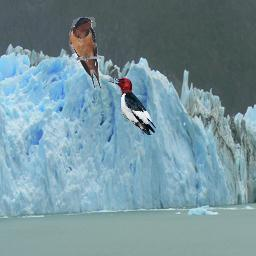Swallow: (69, 17, 101, 90)
Woodpecker: (108, 75, 157, 135)
